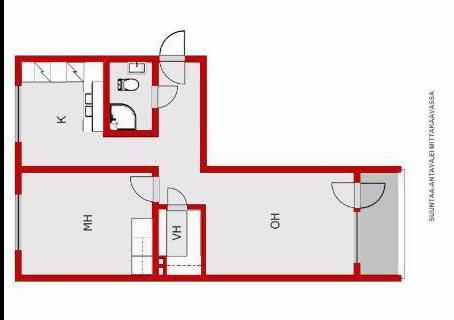door: (352, 180, 388, 210), (156, 28, 188, 61), (128, 175, 162, 202), (330, 180, 360, 210), (158, 56, 187, 86), (150, 84, 179, 109), (165, 186, 188, 212)
window: (12, 191, 24, 255), (13, 82, 24, 146)
